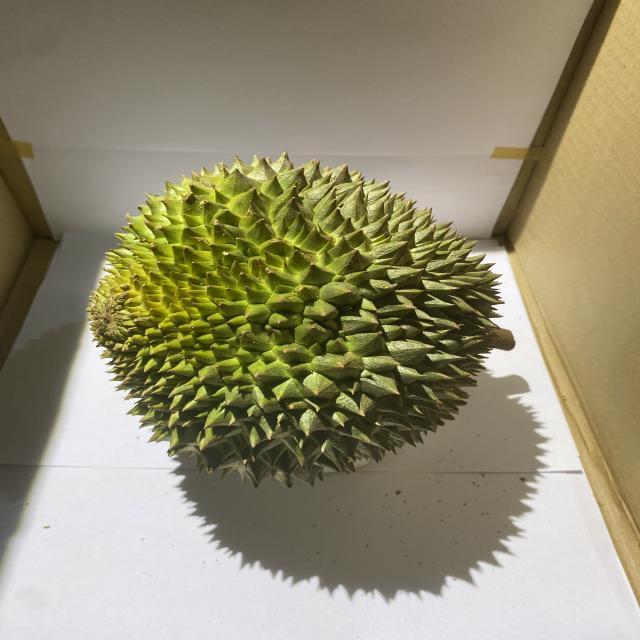immature: (86, 152, 506, 486)
